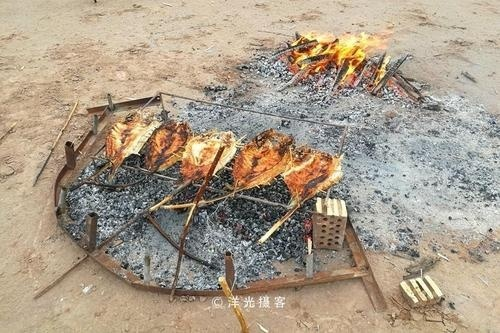fire: (102, 108, 344, 202), (285, 27, 394, 86)
